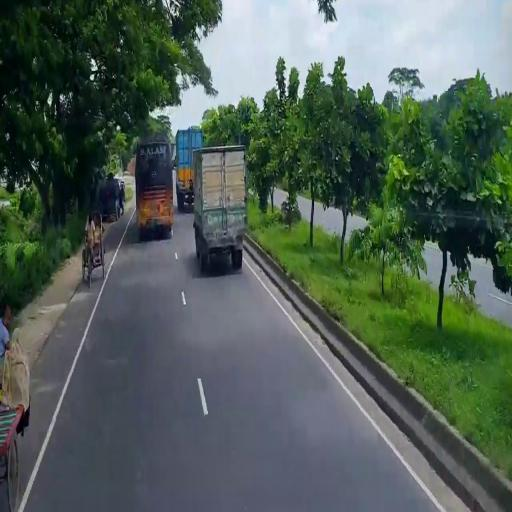bus: (131, 138, 178, 243)
pickup: (187, 141, 251, 282)
rickshaw: (78, 207, 108, 295)
truck: (175, 127, 203, 213)
